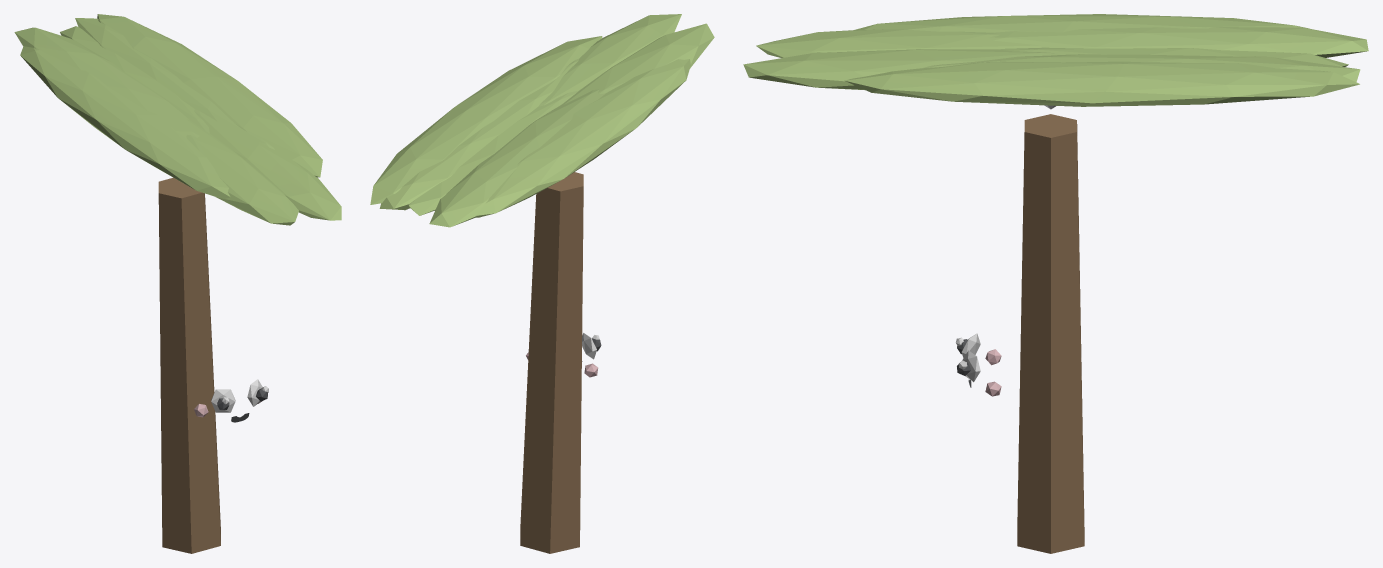
The model's file is hyophorbe-lagenicaulis.glb.
3 renders of one model, left to right at view 1: azimuth 30°, elevation 25°; view 2: azimuth 150°, elevation 25°; view 3: azimuth 270°, elevation 25°, orthographic. The views are drawn at different scales.
Visible parts, largest first — view 1: trunk, frond3, frond0, frond1, frond4, frond2, frond6, frond5; view 2: trunk, frond3, frond0, frond4, frond1, frond6, frond2, frond5; view 3: trunk, frond0, frond4, frond1, frond3, frond2, frond6, frond5.
Part boxes in pixels (x1,y1,x2,y2): trunk: [158, 177, 220, 553]; frond3: [20, 46, 230, 198]; frond0: [97, 14, 322, 177]; frond1: [194, 109, 341, 220]; frond4: [14, 27, 199, 138]; frond2: [186, 119, 298, 225]; frond6: [75, 18, 274, 149]; frond5: [60, 26, 209, 133]; trunk: [520, 172, 583, 553]; frond3: [476, 59, 690, 217]; frond0: [370, 36, 602, 204]; frond4: [429, 89, 605, 227]; frond1: [538, 14, 681, 106]; frond6: [379, 58, 578, 210]; frond2: [562, 23, 714, 104]; frond5: [408, 90, 578, 215]; trunk: [1017, 114, 1084, 553]; frond0: [845, 61, 1359, 106]; frond4: [989, 27, 1368, 57]; frond1: [743, 49, 1059, 89]; frond3: [853, 14, 1308, 32]; frond2: [756, 29, 1041, 57]; frond6: [922, 54, 1360, 82]; frond5: [998, 47, 1348, 66].
Size of the model in its own units: 0.2321 by 0.6299 by 0.724.
